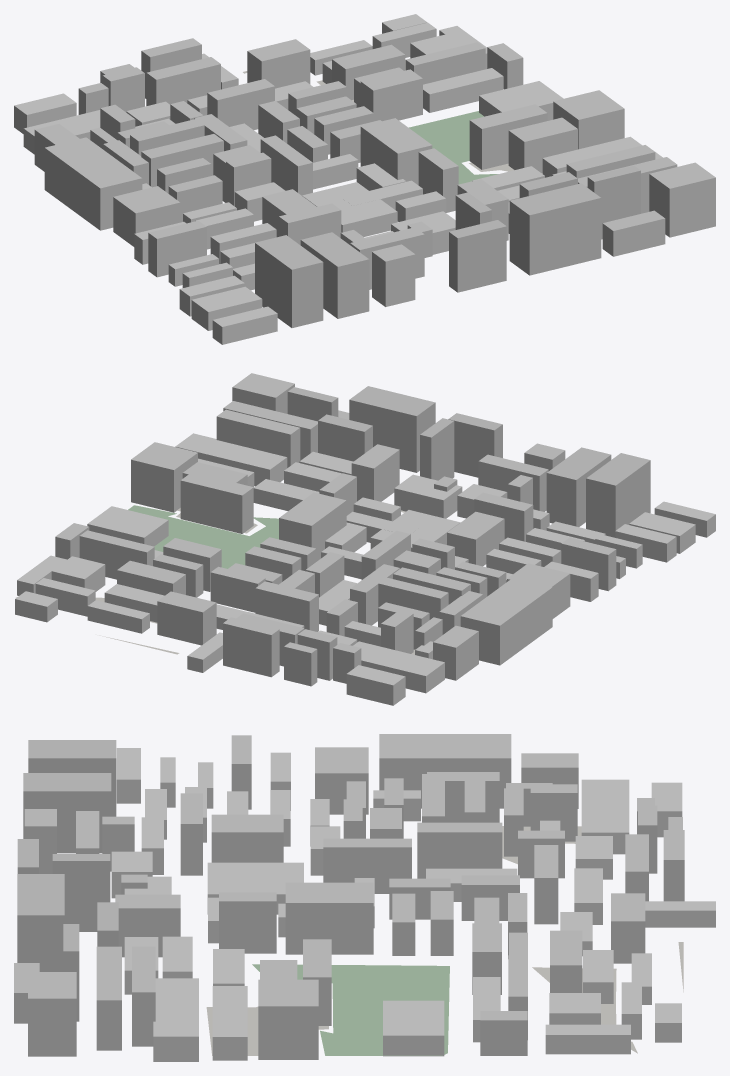
File: 117_108_mid.glb
3 views of the same model, one above another, from view 1: azimuth 30°, elevation 25°; view 2: azimuth 150°, elevation 25°; view 3: azimuth 270°, elevation 25° (orthographic). The views are drawn at different scales.
Bounding box in the file's own units: 523 × 60.9 × 534.
